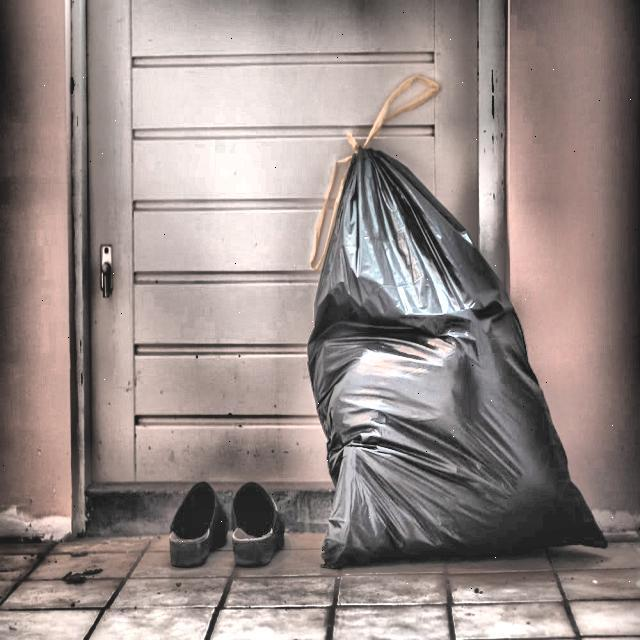Trashbag: (306, 139, 608, 576)
